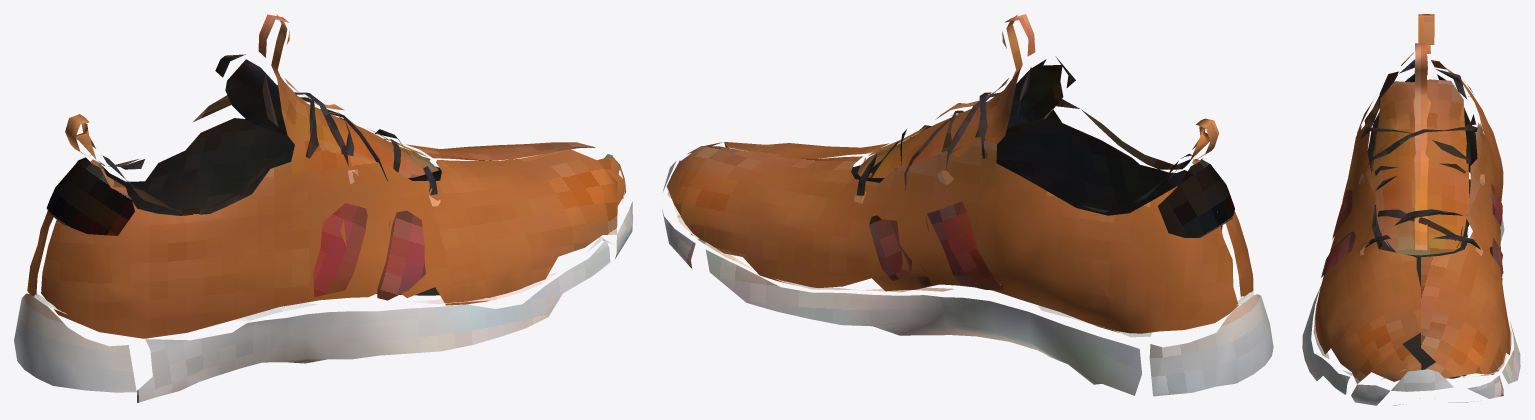
The model's file is shoe-sunset-far.glb.
3 views of the same model, side by side, from view 1: azimuth 30°, elevation 25°; view 2: azimuth 150°, elevation 25°; view 3: azimuth 270°, elevation 25° (orthographic). The views are drawn at different scales.
Parts seen in each view (by area): view 1: Shoe; view 2: Shoe; view 3: Shoe.
Boxes of the visible parts, x1,y1,x2,y2 form: Shoe: [14, 14, 632, 402]; Shoe: [662, 14, 1273, 396]; Shoe: [1302, 14, 1520, 405].
Bounding box in the file's own units: 0.2957 × 0.1512 × 0.1145.
Materials: 1 (1 with a texture image).
